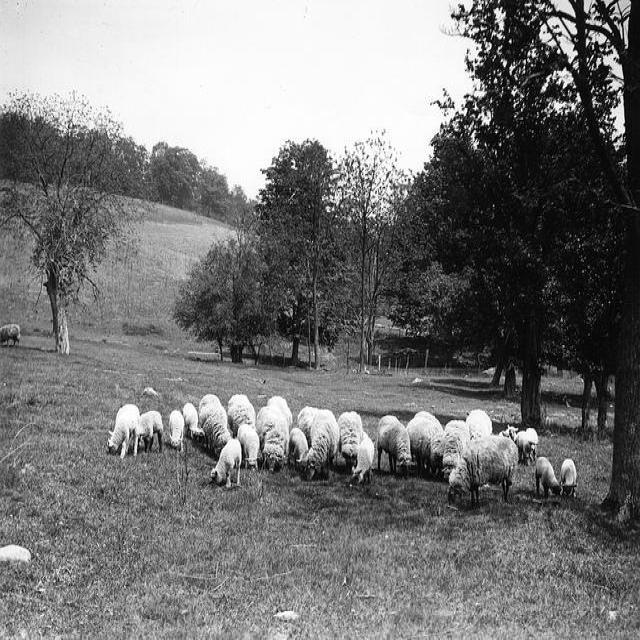Sheep: (1, 320, 547, 532), (298, 406, 341, 480), (257, 395, 296, 474), (406, 410, 444, 476), (377, 416, 413, 481), (198, 394, 233, 458), (207, 436, 242, 488), (130, 408, 166, 458)
